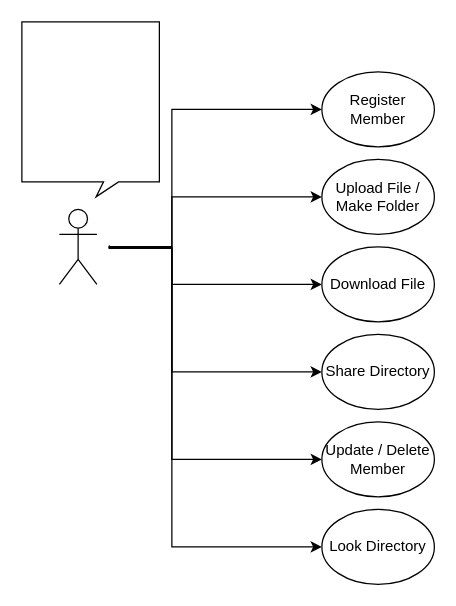
This 456x606 diagram has some shape labels left out. The centre of each missing label's shape, as x and y in pixels:
Member: (77,246)
Member Always Login: (90,109)
